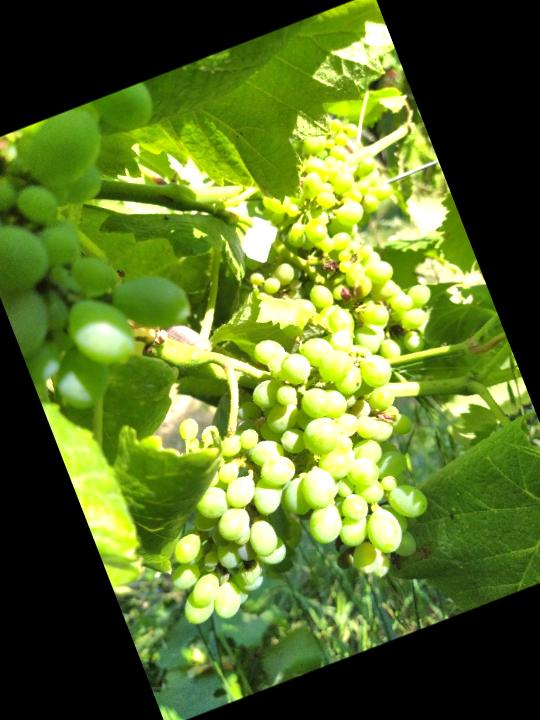grape: (99, 300, 464, 652)
